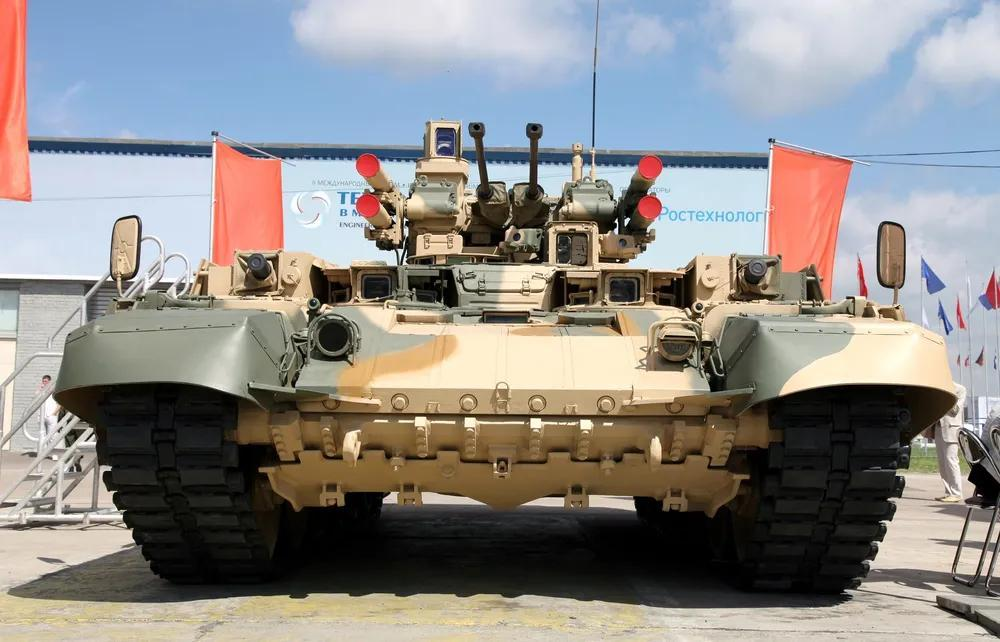MIL_IFV: (50, 122, 968, 603)
